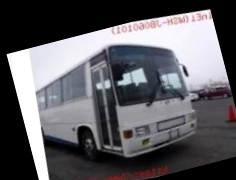bus: (18, 14, 215, 180)
